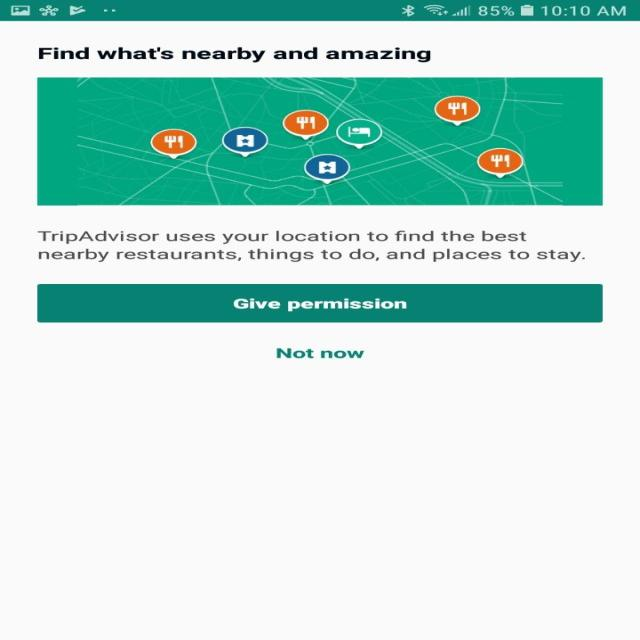Image: (37, 77, 603, 205)
Text: (36, 230, 585, 262), (38, 46, 430, 64), (276, 348, 364, 358)
TextButton: (37, 284, 603, 322)
